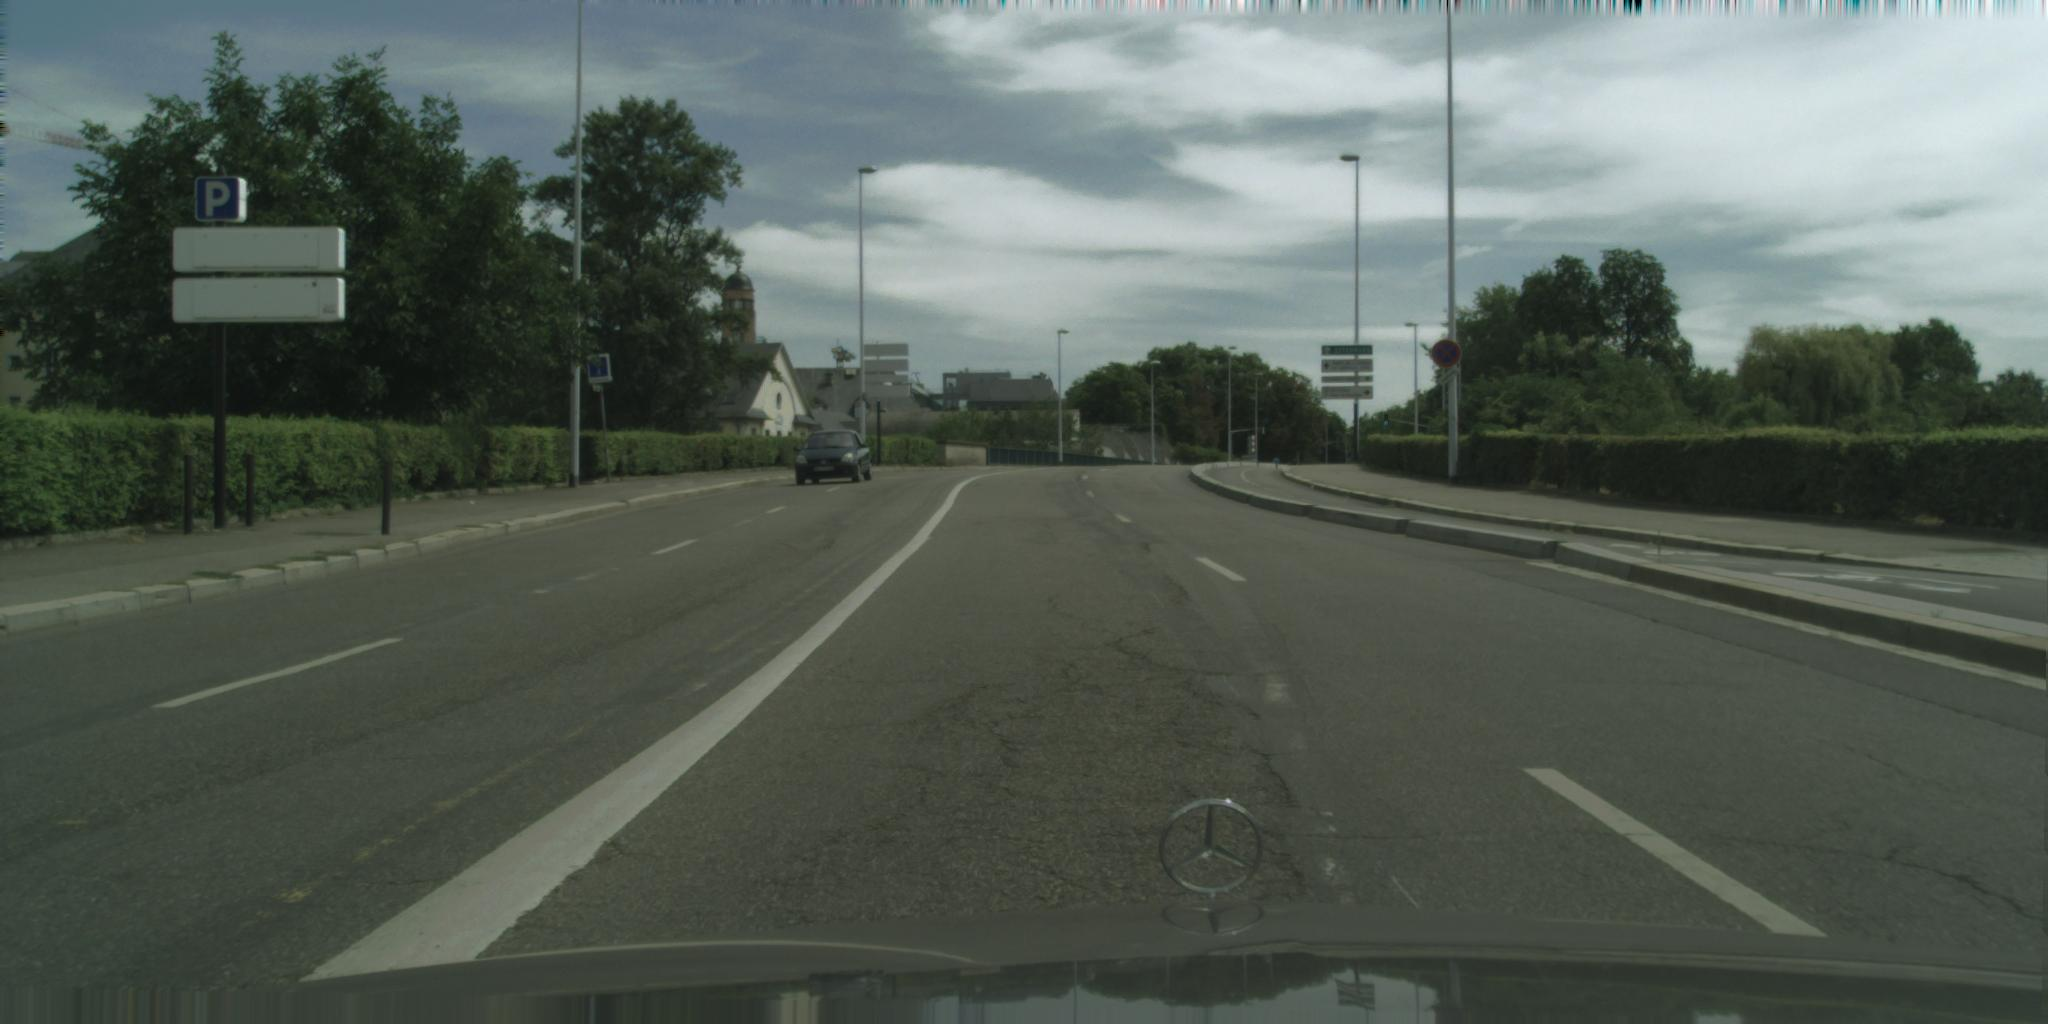car: (794, 430, 875, 487)
